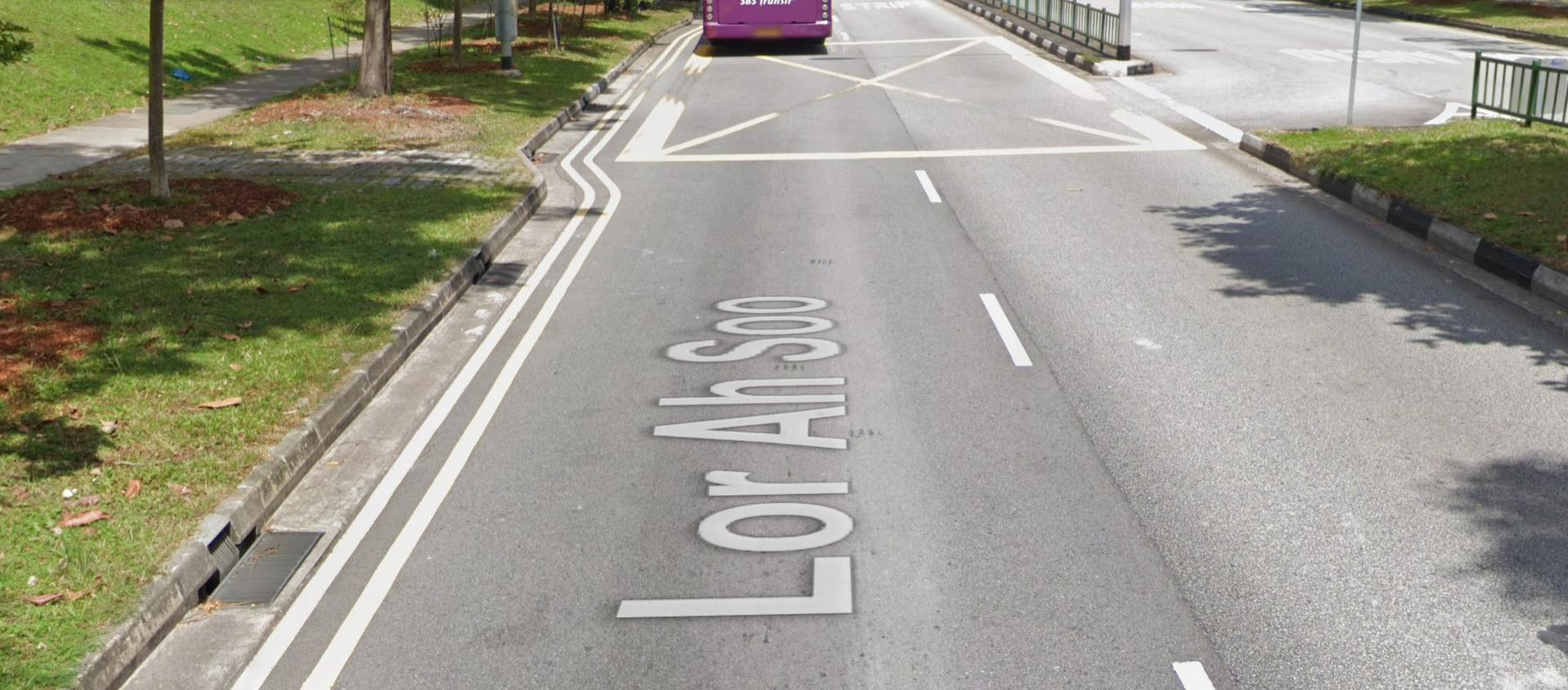defect: (202, 528, 331, 609)
